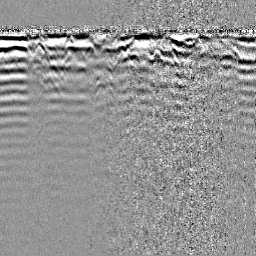cavity: (149, 48, 164, 64)
